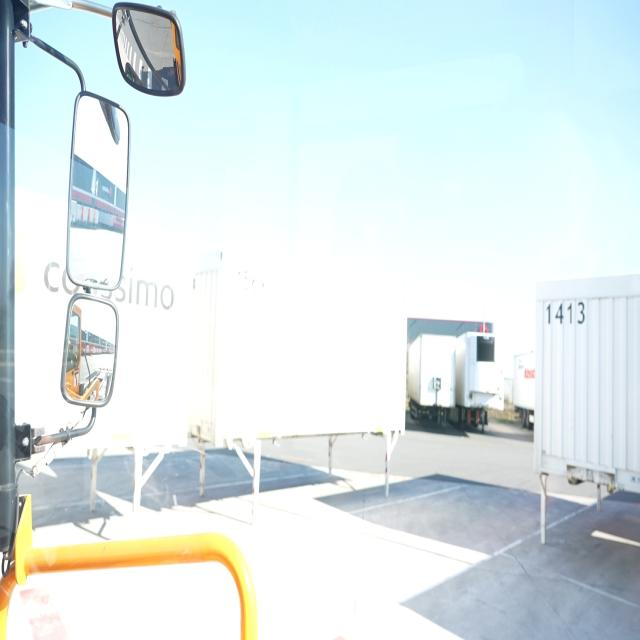Code: (542, 290, 588, 329)
